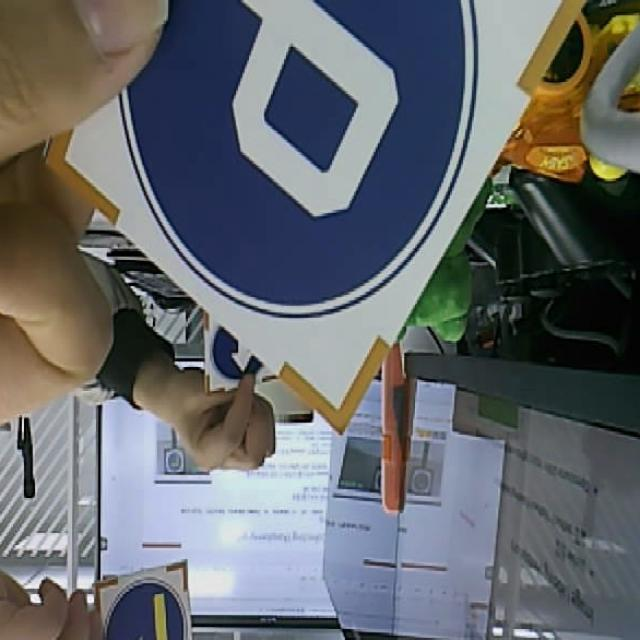parking: (40, 0, 587, 431)
turn: (90, 555, 198, 640)
